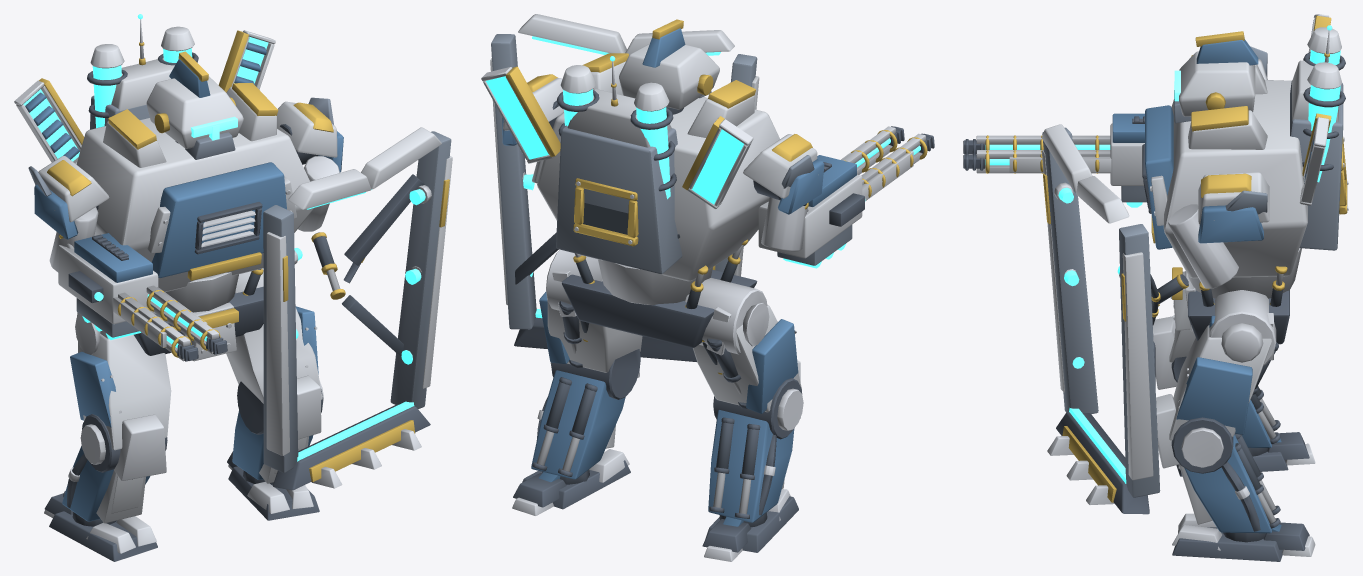
File: rail_warden.glb
3 views of the same model, side by side, from view 1: azimuth 30°, elevation 25°; view 2: azimuth 150°, elevation 25°; view 3: azimuth 270°, elevation 25° (orthographic). The views are drawn at different scales.
Parts seen in each view (by area): view 1: BodyGroup_ArmorAlloy, ShieldFrame_ArmorAlloy, RightArm_ArmorAlloy, RightThigh_ArmorAlloy, RightShin_ArmorAlloy, HeadGroup_ArmorAlloy, LeftArm_ArmorAlloy, LeftShin_ArmorAlloy, LeftThigh_ArmorAlloy, RightFoot_ArmorAlloy, Pelvis_ArmorAlloy, BodyGroup_A2_CyanReactor (+6 smaller); view 2: BodyGroup_ArmorAlloy, ShieldFrame_ArmorAlloy, RightArm_ArmorAlloy, RightThigh_ArmorAlloy, RightShin_ArmorAlloy, LeftShin_ArmorAlloy, Pelvis_ArmorAlloy, LeftThigh_ArmorAlloy, BodyGroup_A2_CyanReactor, HeadGroup_ArmorAlloy, LeftFoot_ArmorAlloy, RightFoot_ArmorAlloy (+4 smaller); view 3: BodyGroup_ArmorAlloy, ShieldFrame_ArmorAlloy, LeftThigh_ArmorAlloy, LeftShin_ArmorAlloy, LeftArm_ArmorAlloy, HeadGroup_ArmorAlloy, LeftFoot_ArmorAlloy, RightArm_ArmorAlloy, RightShin_ArmorAlloy, Pelvis_ArmorAlloy, BarrelSlide_L_ArmorAlloy, RightFoot_ArmorAlloy (+5 smaller).
Boxes of the visible parts, x1,y1,x2,y2 form: BodyGroup_ArmorAlloy: [14, 19, 314, 312]; ShieldFrame_ArmorAlloy: [263, 127, 452, 490]; RightArm_ArmorAlloy: [28, 156, 158, 337]; RightThigh_ArmorAlloy: [70, 312, 171, 450]; RightShin_ArmorAlloy: [62, 414, 167, 523]; HeadGroup_ArmorAlloy: [146, 51, 243, 159]; LeftArm_ArmorAlloy: [277, 97, 345, 299]; LeftShin_ArmorAlloy: [232, 375, 323, 483]; LeftThigh_ArmorAlloy: [226, 268, 322, 403]; RightFoot_ArmorAlloy: [44, 493, 157, 561]; Pelvis_ArmorAlloy: [134, 286, 263, 361]; BodyGroup_A2_CyanReactor: [23, 14, 268, 161]; BodyGroup_ArmorAlloy: [481, 53, 779, 308]; ShieldFrame_ArmorAlloy: [490, 14, 759, 361]; RightArm_ArmorAlloy: [743, 134, 864, 265]; RightThigh_ArmorAlloy: [684, 278, 801, 413]; RightShin_ArmorAlloy: [708, 360, 803, 522]; LeftShin_ArmorAlloy: [531, 349, 640, 479]; Pelvis_ArmorAlloy: [552, 266, 757, 355]; LeftThigh_ArmorAlloy: [539, 249, 642, 372]; BodyGroup_A2_CyanReactor: [486, 56, 743, 204]; HeadGroup_ArmorAlloy: [619, 19, 719, 114]; LeftFoot_ArmorAlloy: [512, 449, 630, 515]; RightFoot_ArmorAlloy: [702, 489, 798, 561]; BodyGroup_ArmorAlloy: [1142, 14, 1348, 306]; ShieldFrame_ArmorAlloy: [1041, 124, 1160, 514]; LeftThigh_ArmorAlloy: [1169, 290, 1278, 440]; LeftShin_ArmorAlloy: [1156, 394, 1280, 533]; LeftArm_ArmorAlloy: [1157, 172, 1269, 306]; HeadGroup_ArmorAlloy: [1174, 31, 1258, 123]; LeftFoot_ArmorAlloy: [1172, 513, 1315, 561]; RightArm_ArmorAlloy: [1110, 46, 1267, 202]; RightShin_ArmorAlloy: [1153, 316, 1280, 447]; Pelvis_ArmorAlloy: [1170, 267, 1289, 360]; BarrelSlide_L_ArmorAlloy: [963, 149, 1111, 173]; RightFoot_ArmorAlloy: [1176, 432, 1315, 476].
Bounding box in the file's own units: 1.95 × 2.41 × 1.76.
